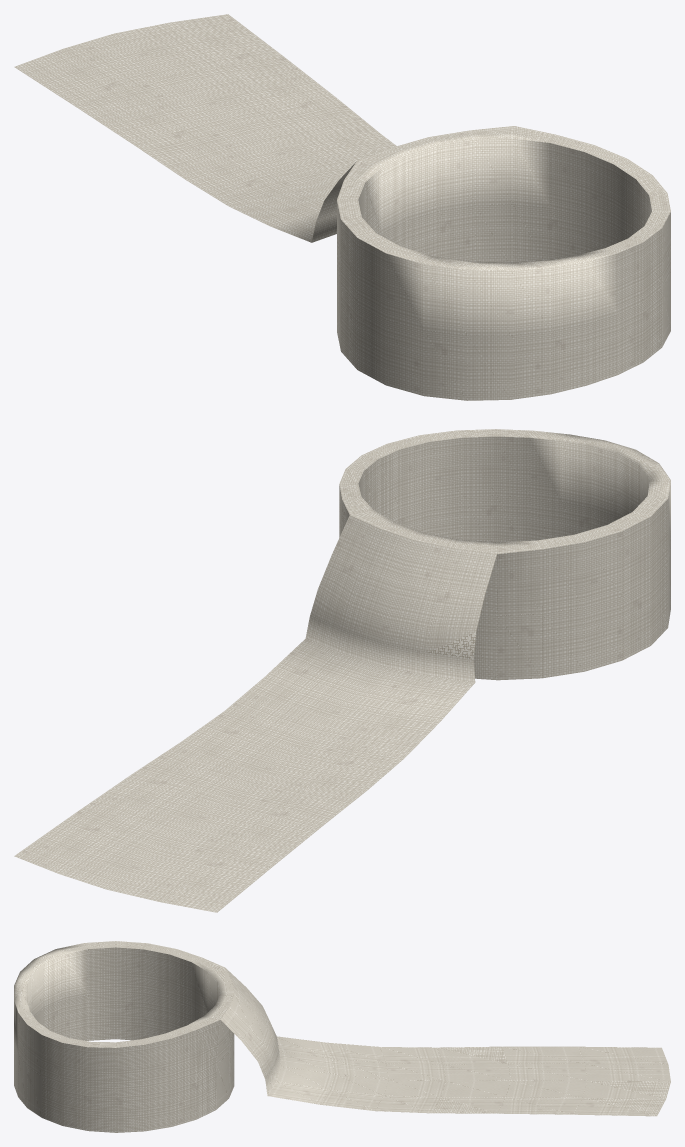
Rendered from SM_MournHat.glb.
3 renders of one model, top to bottom at view 1: azimuth 30°, elevation 25°; view 2: azimuth 150°, elevation 25°; view 3: azimuth 270°, elevation 25°, orthographic. The views are drawn at different scales.
Visible parts, largest first — view 1: SM_MournHat.001; view 2: SM_MournHat.001; view 3: SM_MournHat.001.
Part boxes in pixels (bbox=[...]): SM_MournHat.001: bbox=[14, 14, 670, 400]; SM_MournHat.001: bbox=[14, 429, 670, 912]; SM_MournHat.001: bbox=[14, 941, 670, 1132].
Size of the model in its own units: 0.1872 by 0.08 by 0.5192.
1 material, 1 textured.
